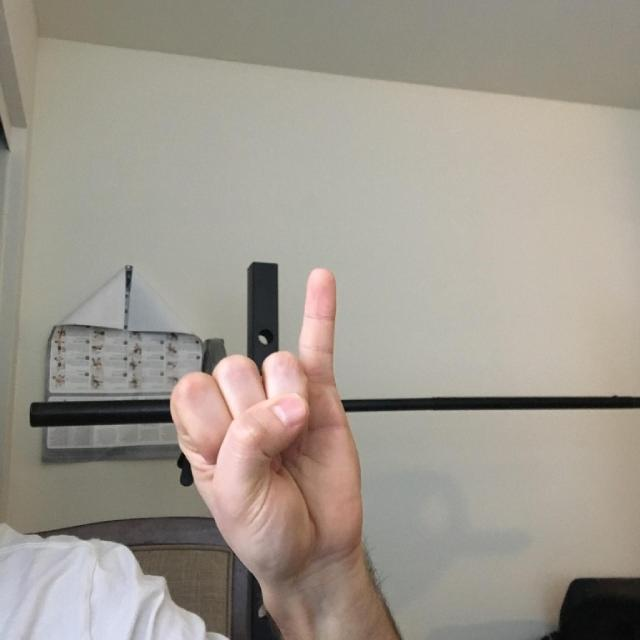I: (110, 239, 432, 552)
